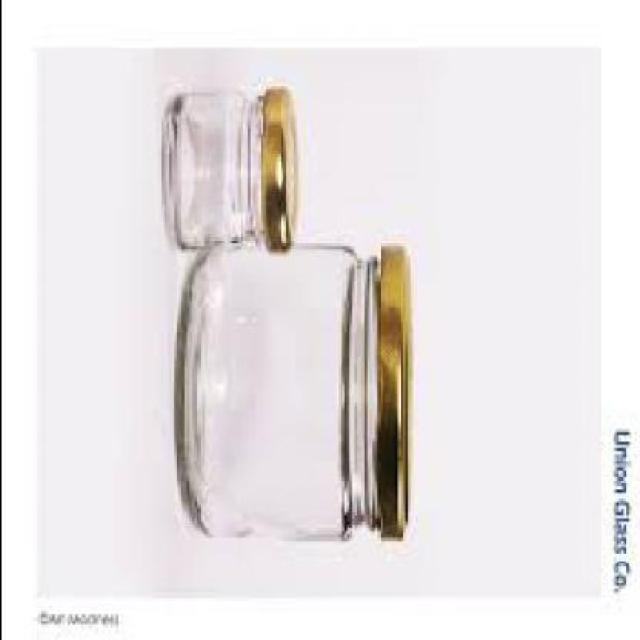GLASS: (178, 240, 378, 542), (165, 89, 264, 243)
METAL: (371, 239, 411, 538), (264, 83, 298, 246)
